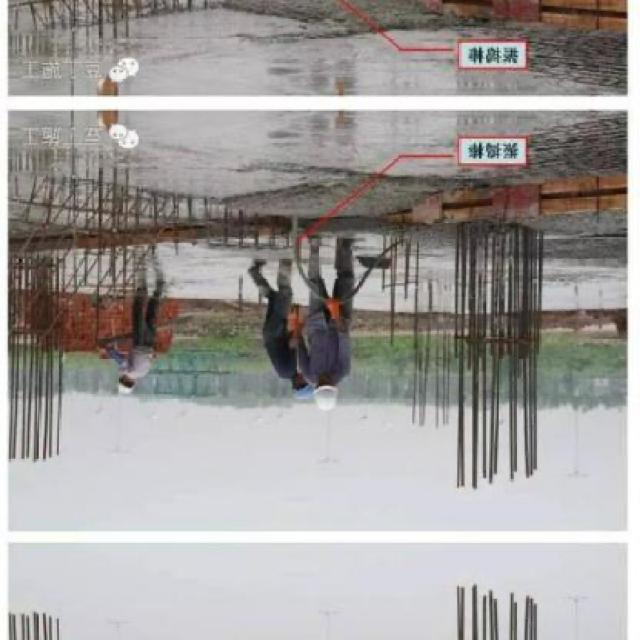con casco: (290, 365, 366, 439)
